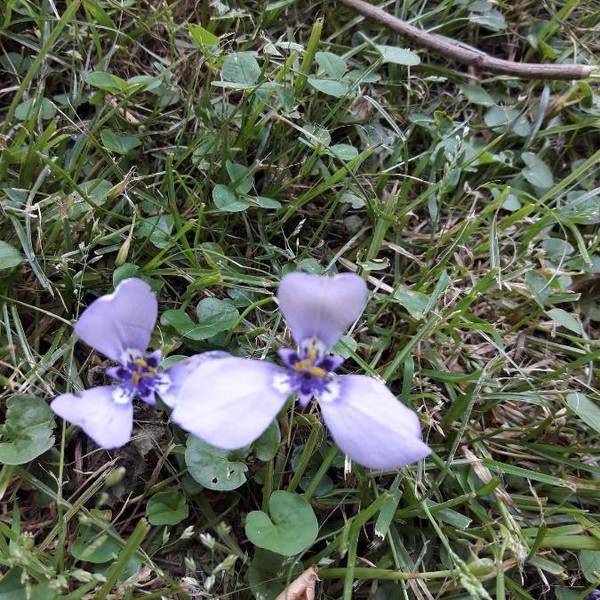obstacle: (37, 244, 413, 522)
